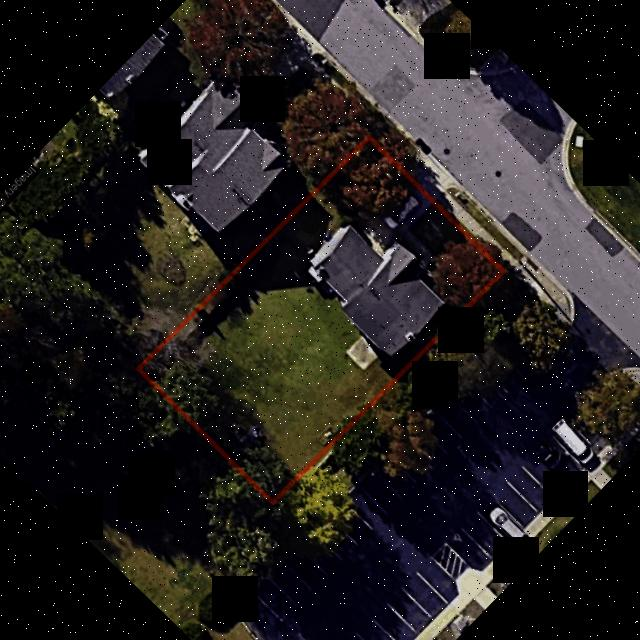Driveway: (362, 184, 435, 266)
Extra Driveway: (415, 154, 460, 198)
Extra Lawn: (447, 187, 523, 259)
Extra Sidewalk: (435, 192, 514, 267)
House: (306, 224, 442, 358)
Other: (345, 335, 380, 370)
